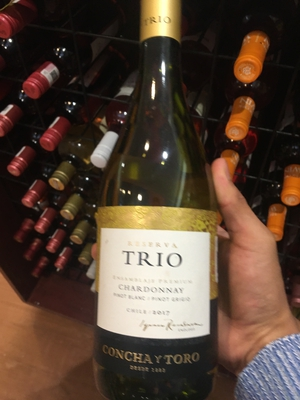trio chardonnay: (87, 25, 233, 400)
